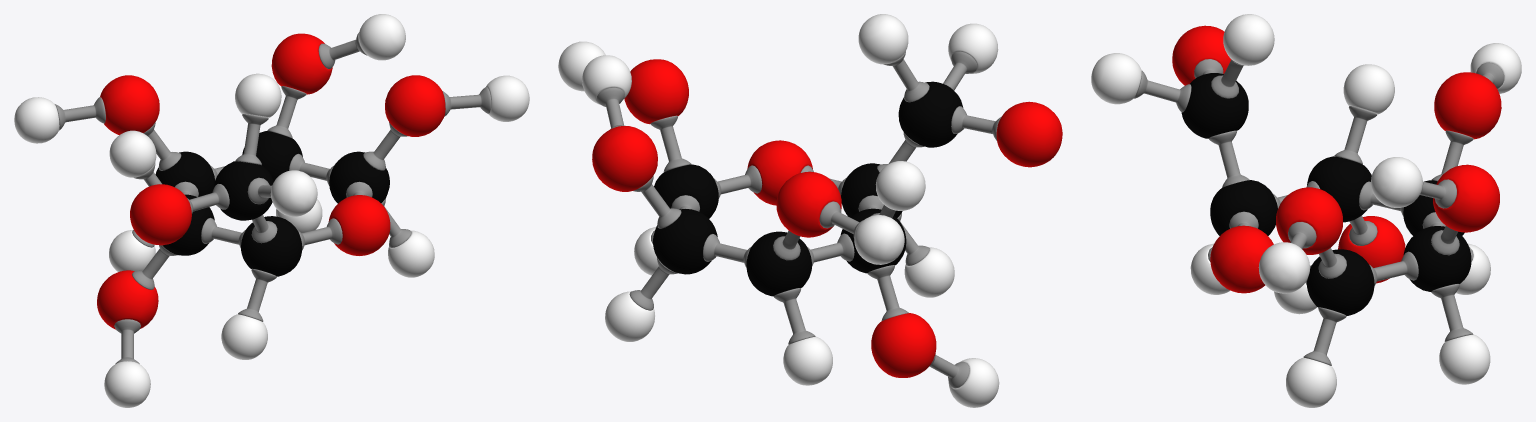
Rendered from Glucose_Molecule.glb.
3 views of the same model, side by side, from view 1: azimuth 30°, elevation 25°; view 2: azimuth 150°, elevation 25°; view 3: azimuth 270°, elevation 25° (orthographic). The views are drawn at different scales.
Visible parts, largest first — view 1: Glucose_Molecular_Model; view 2: Glucose_Molecular_Model; view 3: Glucose_Molecular_Model.
Boxes of the visible parts, bbox=[...] form: Glucose_Molecular_Model: bbox=[14, 14, 529, 407]; Glucose_Molecular_Model: bbox=[558, 14, 1062, 407]; Glucose_Molecular_Model: bbox=[1091, 14, 1521, 407].
Bounding box in the file's own units: 20.94 × 15 × 16.57.
Materials: 2 (2 with a texture image).
